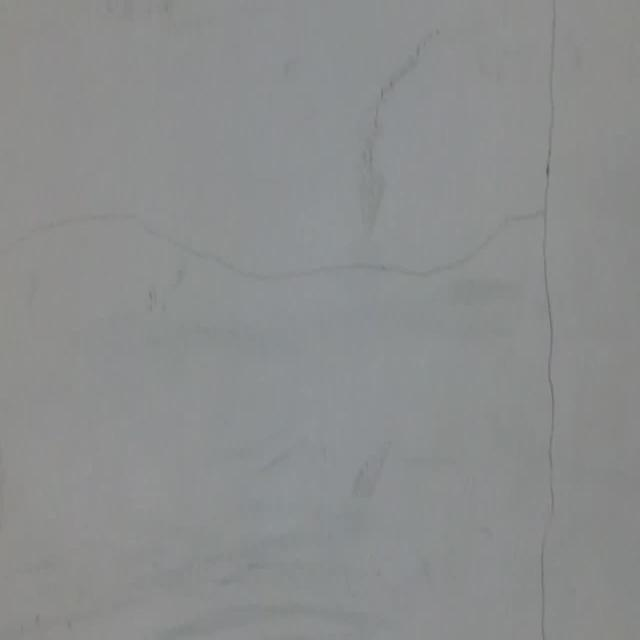Crack: (0, 200, 492, 302), (514, 2, 566, 639)
